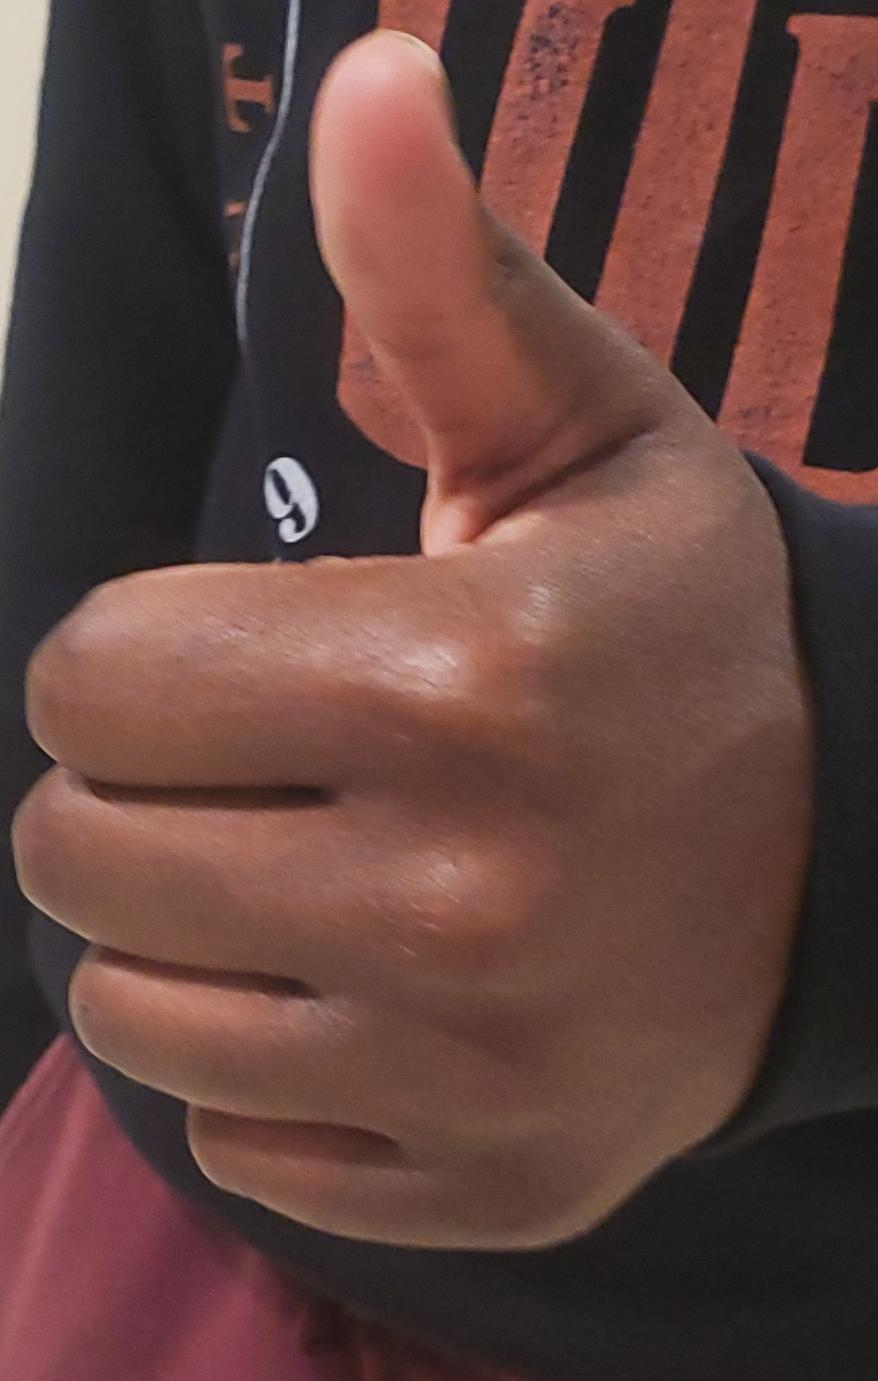up: (0, 1, 878, 1381)
